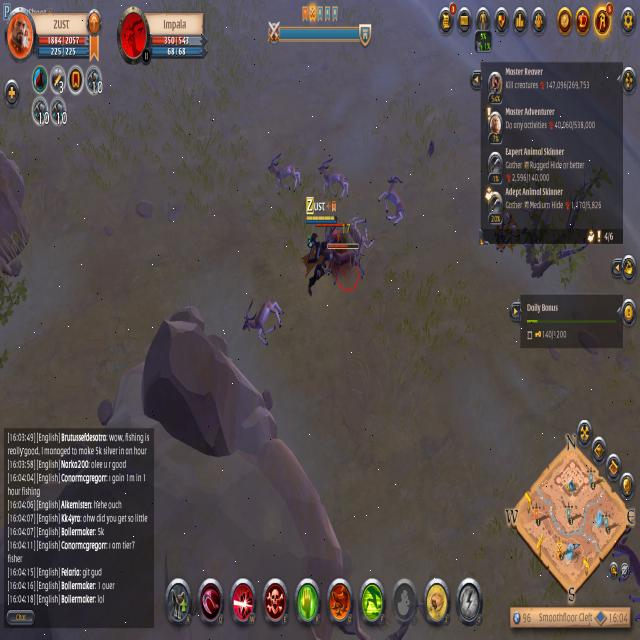deer_dead: (237, 288, 290, 357), (375, 170, 413, 229), (264, 154, 306, 200), (315, 162, 350, 202)
targeting: (326, 241, 366, 290), (313, 219, 359, 259)
